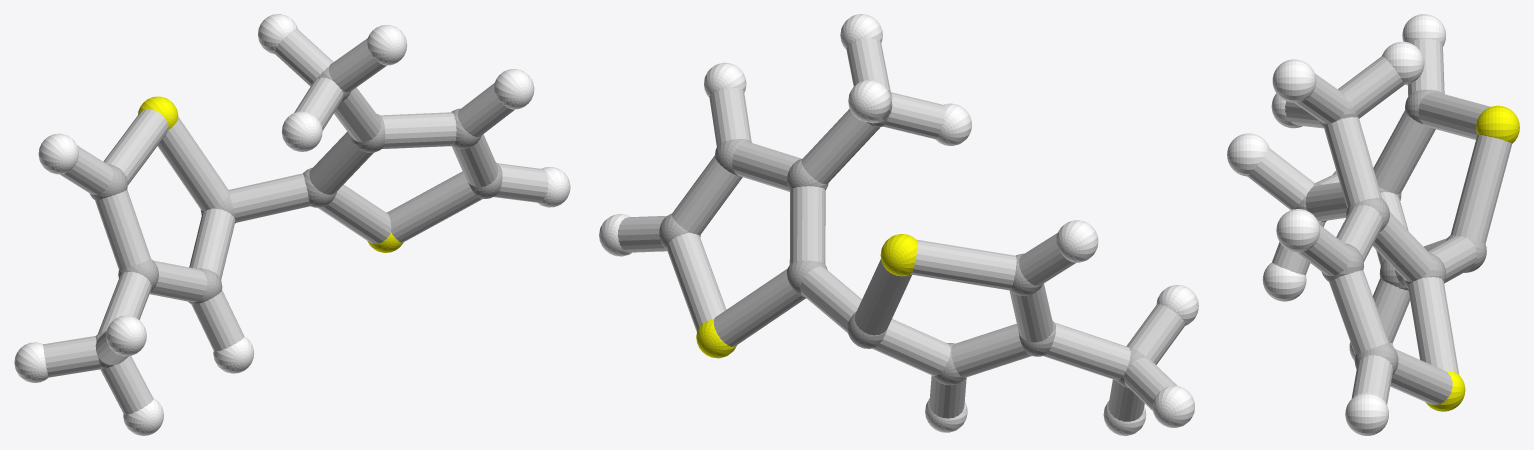
The model's file is Methylthiophene_Phi_50_Theta_60_Methylthiophene.glb.
3 renders of one model, left to right at view 1: azimuth 30°, elevation 25°; view 2: azimuth 150°, elevation 25°; view 3: azimuth 270°, elevation 25°, orthographic. The views are drawn at different scales.
Parts seen in each view (by area): view 1: grp7965, grp3621, grp1, grp7241; view 2: grp7965, grp3621, grp1, grp7241; view 3: grp7965, grp3621, grp1, grp7241.
Part boxes in pixels (bbox=[...]): grp7965: bbox=[43, 29, 548, 414]; grp3621: bbox=[14, 14, 570, 435]; grp1: bbox=[89, 67, 502, 368]; grp7241: bbox=[138, 96, 403, 252]; grp7965: bbox=[617, 38, 1185, 421]; grp3621: bbox=[599, 14, 1198, 435]; grp1: bbox=[659, 90, 1146, 387]; grp7241: bbox=[696, 234, 917, 358]; grp7965: bbox=[1247, 38, 1512, 404]; grp3621: bbox=[1227, 14, 1446, 435]; grp1: bbox=[1295, 89, 1486, 374]; grp7241: bbox=[1425, 105, 1519, 411].
Size of the model in its own units: 9.45 by 5.56 by 4.01.
